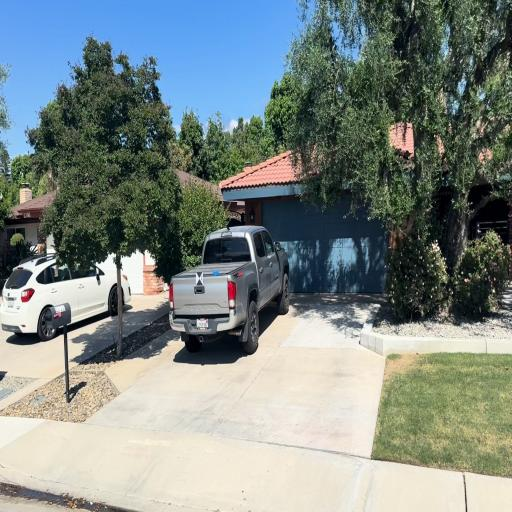target1: (196, 272, 203, 284)
